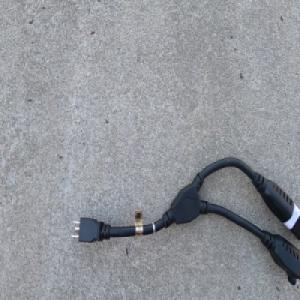Wire: (70, 155, 300, 284)
